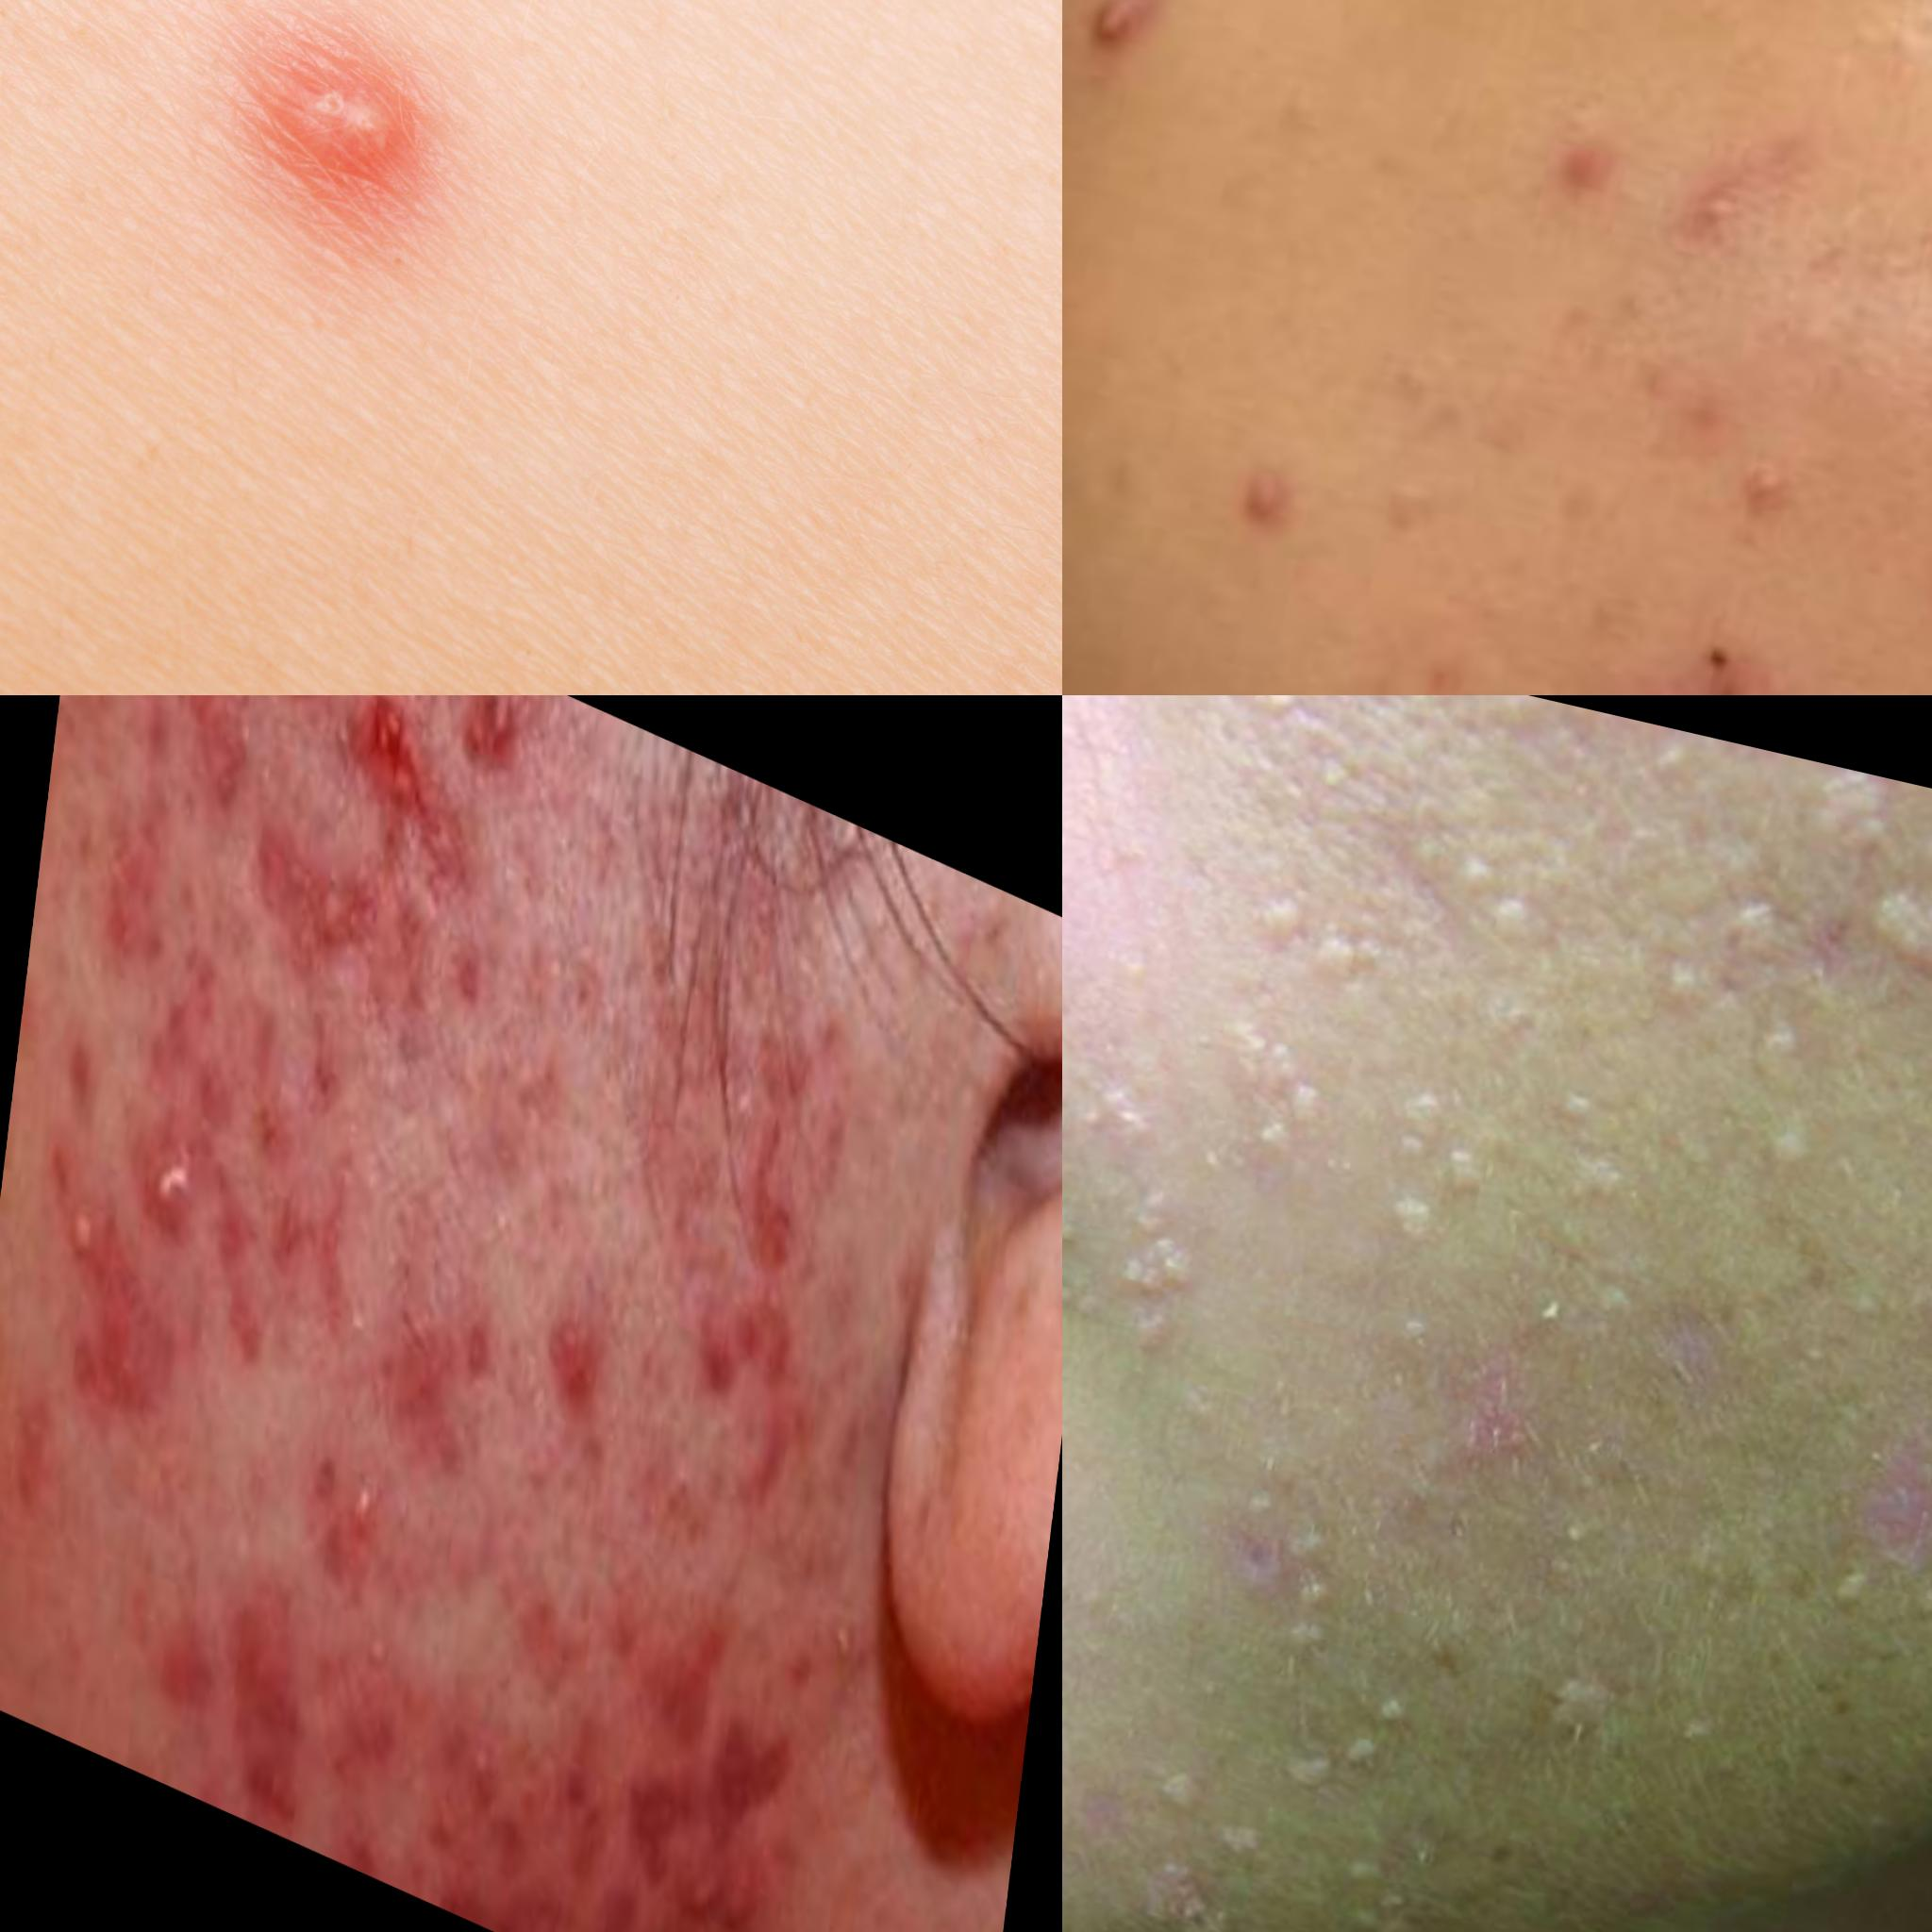acne_scars: (715, 1099, 821, 1315), (1392, 1329, 1532, 1488), (1812, 1415, 1932, 1594), (1168, 1486, 1311, 1631)
blackhead: (640, 1391, 718, 1583)
flat_wart: (1339, 1058, 1500, 1258), (1511, 1603, 1661, 1805), (1230, 876, 1407, 1019), (1286, 1656, 1431, 1824), (1451, 828, 1587, 968), (1145, 1737, 1288, 1867), (1205, 1012, 1323, 1168), (1782, 759, 1932, 870), (1702, 872, 1799, 977), (1200, 697, 1329, 761)
folliculitis: (803, 1589, 870, 1737), (44, 1177, 106, 1329)
milium: (1090, 1187, 1219, 1378), (1838, 892, 1932, 987), (341, 1605, 407, 1737)
papular: (182, 2, 518, 295), (1138, 444, 1341, 669), (1458, 87, 1647, 308), (1606, 619, 1796, 697), (665, 1806, 768, 1932)
purulent: (1626, 143, 1785, 326), (1654, 449, 1822, 594), (315, 1437, 400, 1605), (1063, 2, 1159, 140)
sebo-crystan-conglo: (343, 697, 441, 876), (134, 1097, 216, 1261), (449, 697, 545, 819), (253, 697, 350, 777)
